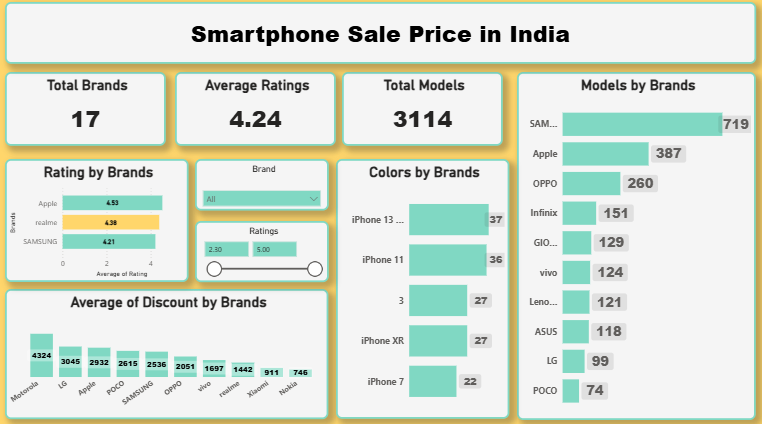

Layout of this report page (visuals, bound fields, positions):
{"tool":"powerbi","page":{"name":"Page 1","canvas":[1280,720],"ordinal":0},"visuals":[{"type":"card","title":"Total Brands","fields":{"Values":["Count(Sales.Brands)"]},"box":[15,128.3,268.3,123.3],"z":0},{"type":"card","title":"Average Ratings","fields":{"Values":["Avg(Sales.Rating)"]},"box":[298.3,128.3,268.3,123.3],"z":1000},{"type":"card","title":"Total Models","fields":{"Values":["CountNonNull(Sales.Models)"]},"box":[576.7,128.3,268.3,123.3],"z":2000},{"type":"barChart","title":" Models by Brands","fields":{"Category":["Sales.Brands"],"Y":["CountNonNull(Sales.Models)"]},"box":[868.5,127.7,398.1,579.5],"z":3000},{"type":"clusteredColumnChart","fields":{"Category":["Sales.Brands"],"Y":["Avg(Sales.Discount)"]},"box":[15.1,490.5,539.2,216.7],"z":4000},{"type":"barChart","title":" Rating by Brands","fields":{"Category":["Sales.Brands"],"Y":["Avg(Sales.Rating)"]},"box":[15.1,273.8,305.7,204.9],"z":5000},{"type":"barChart","title":"Colors by Brands","fields":{"Category":["Sales.Models"],"Y":["CountNonNull(Sales.Colors)"]},"box":[566.1,273.8,288.9,433.4],"z":6000},{"type":"textbox","box":[15,11.7,1251.7,103.3],"z":7000},{"type":"slicer","title":"Brand","fields":{"Values":["Sales.Brands"]},"box":[330.9,273.8,223.4,85.7],"z":8000},{"type":"slicer","title":"Ratings","fields":{"Values":["Sales.Rating"]},"box":[330.9,376.3,223.4,102.5],"z":9000}]}

Visuals, with their boxes in screenshot pixels (x1, y1, x2, y2), scaled from the page's 1280x720 canvas onto the 762x424 screenshot:
"Total Brands" card: (9, 76, 169, 148)
"Average Ratings" card: (178, 76, 337, 148)
"Total Models" card: (343, 76, 503, 148)
" Models by Brands" barChart: (517, 75, 754, 416)
clusteredColumnChart - Sales.Brands x Avg(Sales.Discount): (9, 289, 330, 416)
" Rating by Brands" barChart: (9, 161, 191, 282)
"Colors by Brands" barChart: (337, 161, 509, 416)
textbox: (9, 7, 754, 68)
"Brand" slicer: (197, 161, 330, 212)
"Ratings" slicer: (197, 222, 330, 282)
